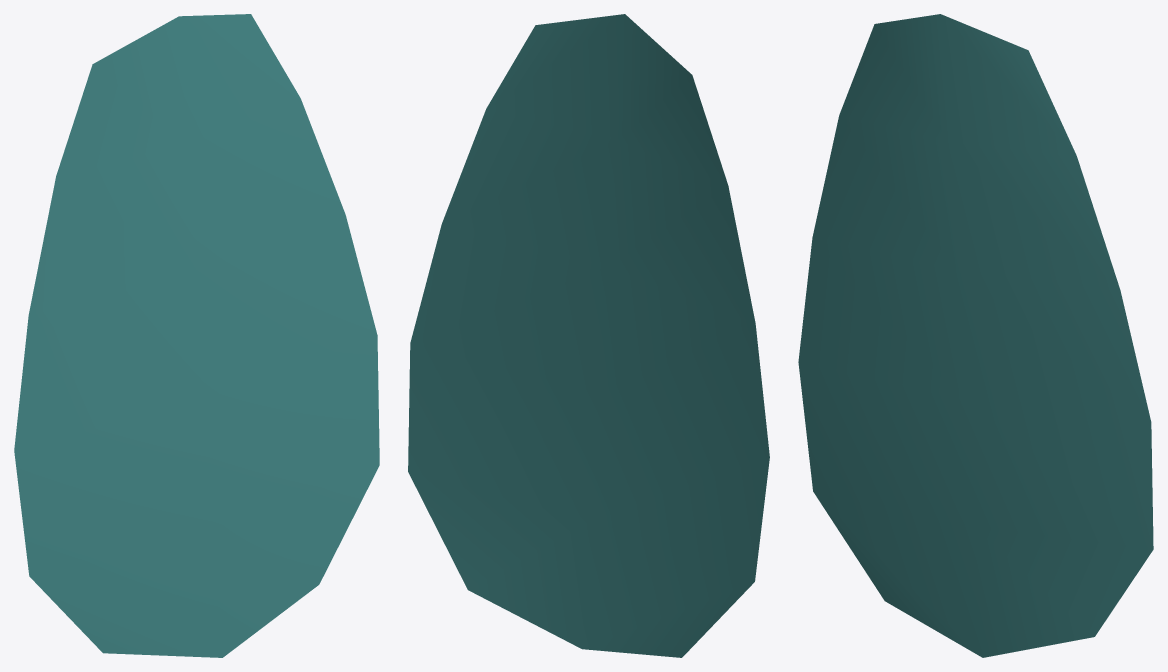
File: budgie_feather_flight_tertiary_008.obj
The picture shows the model from 3 angles, left to right: view 1: azimuth 30°, elevation 25°; view 2: azimuth 150°, elevation 25°; view 3: azimuth 330°, elevation 25°; orthographic projection. The views are drawn at different scales.
Parts seen in each view (by area): view 1: feather_flight_tertiary_008; view 2: feather_flight_tertiary_008; view 3: feather_flight_tertiary_008.
Boxes of the visible parts, x1,y1,x2,y2 form: feather_flight_tertiary_008: [14, 14, 379, 657]; feather_flight_tertiary_008: [408, 14, 769, 657]; feather_flight_tertiary_008: [798, 14, 1153, 657].
Bounding box in the file's own units: 0.00732 × 0.0125 × 0.000322.
